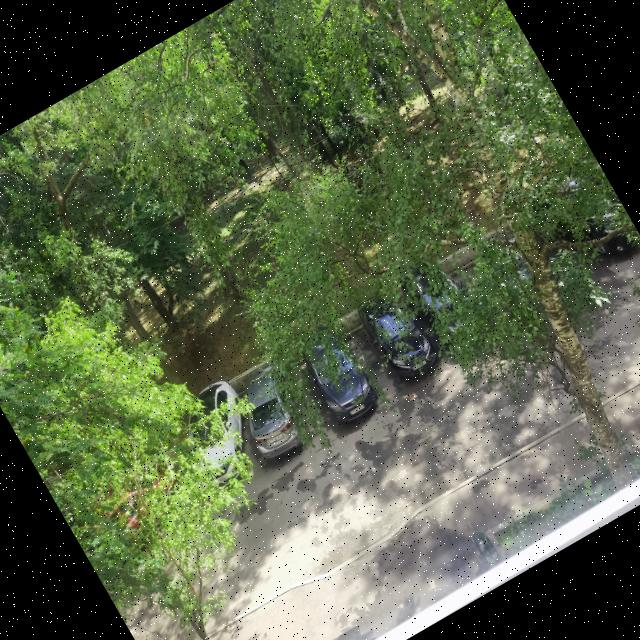car: (186, 375, 242, 489), (350, 300, 433, 376), (303, 343, 378, 425), (247, 370, 303, 453)
